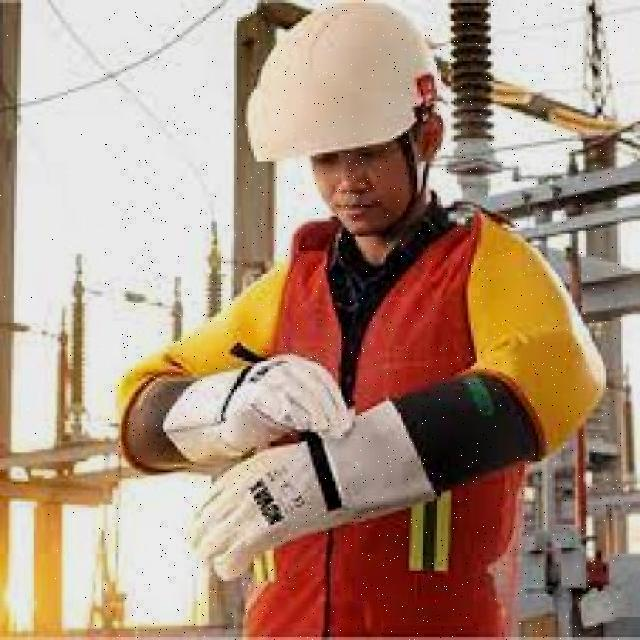Gloves: (186, 397, 436, 576), (161, 350, 352, 473)
Helmet: (245, 0, 439, 164)
Person: (115, 1, 607, 638)
Safety Vest: (280, 242, 517, 630)
